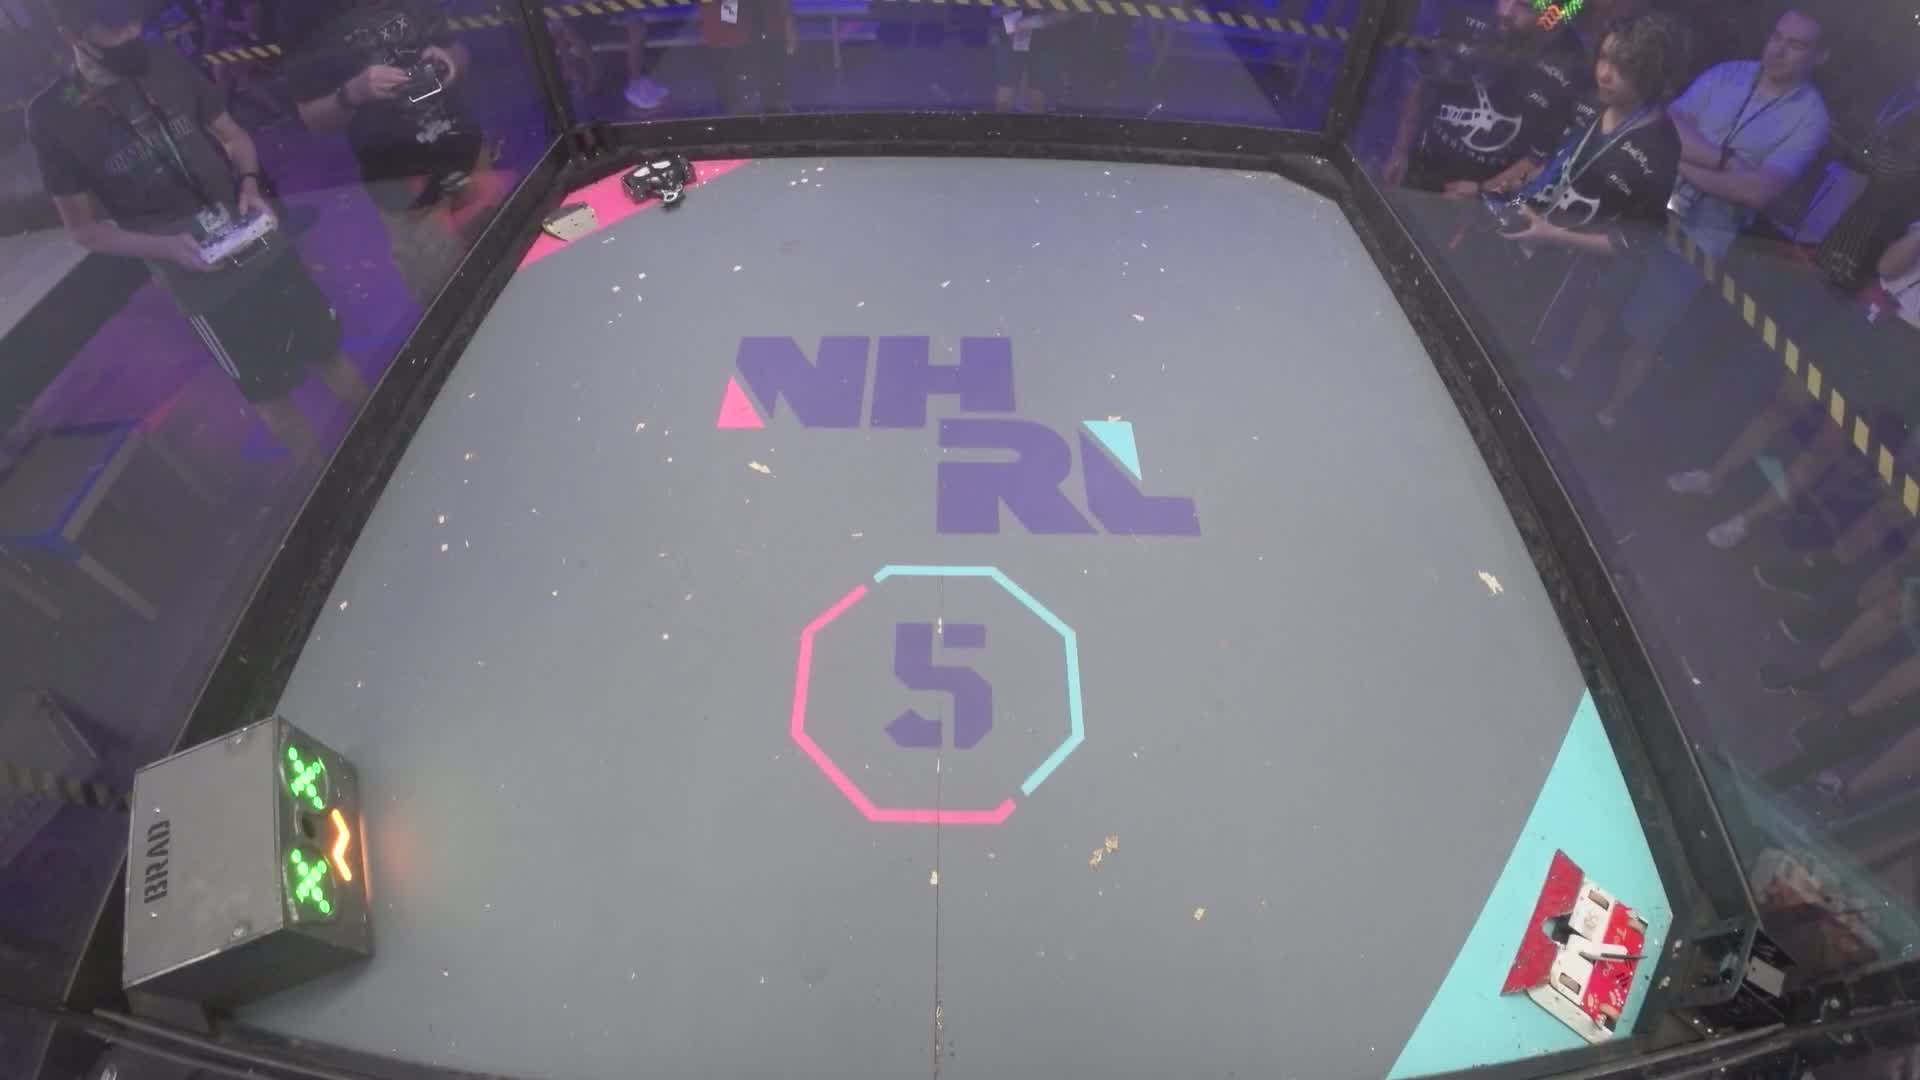combatbot: (1495, 848, 1651, 1044), (621, 157, 695, 210)
housebot: (121, 709, 378, 1009)
minibot: (537, 204, 604, 240)
